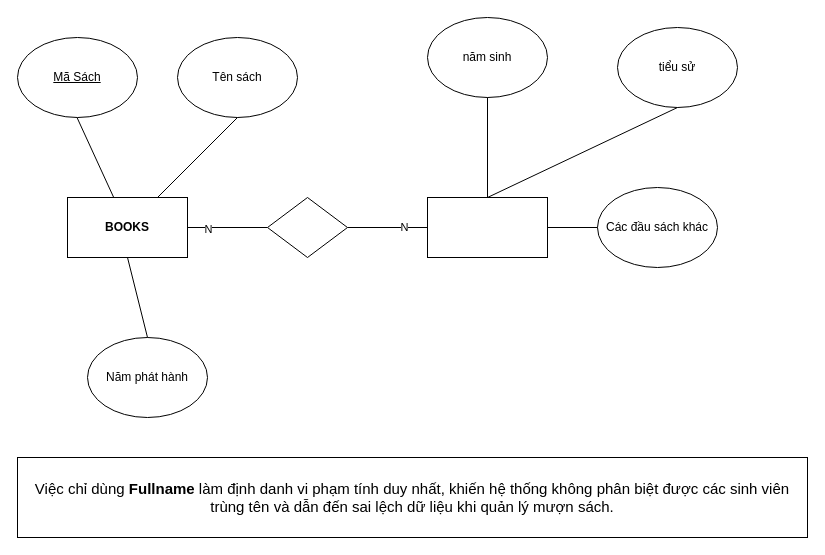
Image size: 825x555. Some labels were removed from this diagram. Each missing label, with the centre of its shape:
"AUHTORS" goes at [487,227].
"WRITES" goes at [307,227].
